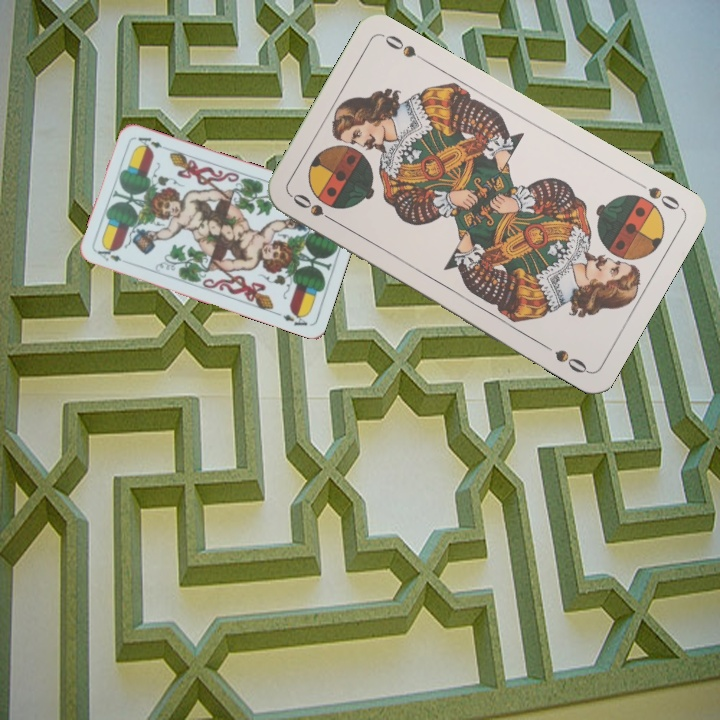EA: (93, 243, 124, 264)
SO: (287, 189, 341, 227), (630, 176, 683, 213)
